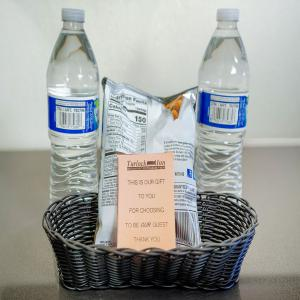Plastic-bottle: (199, 8, 251, 204), (47, 9, 100, 198)
